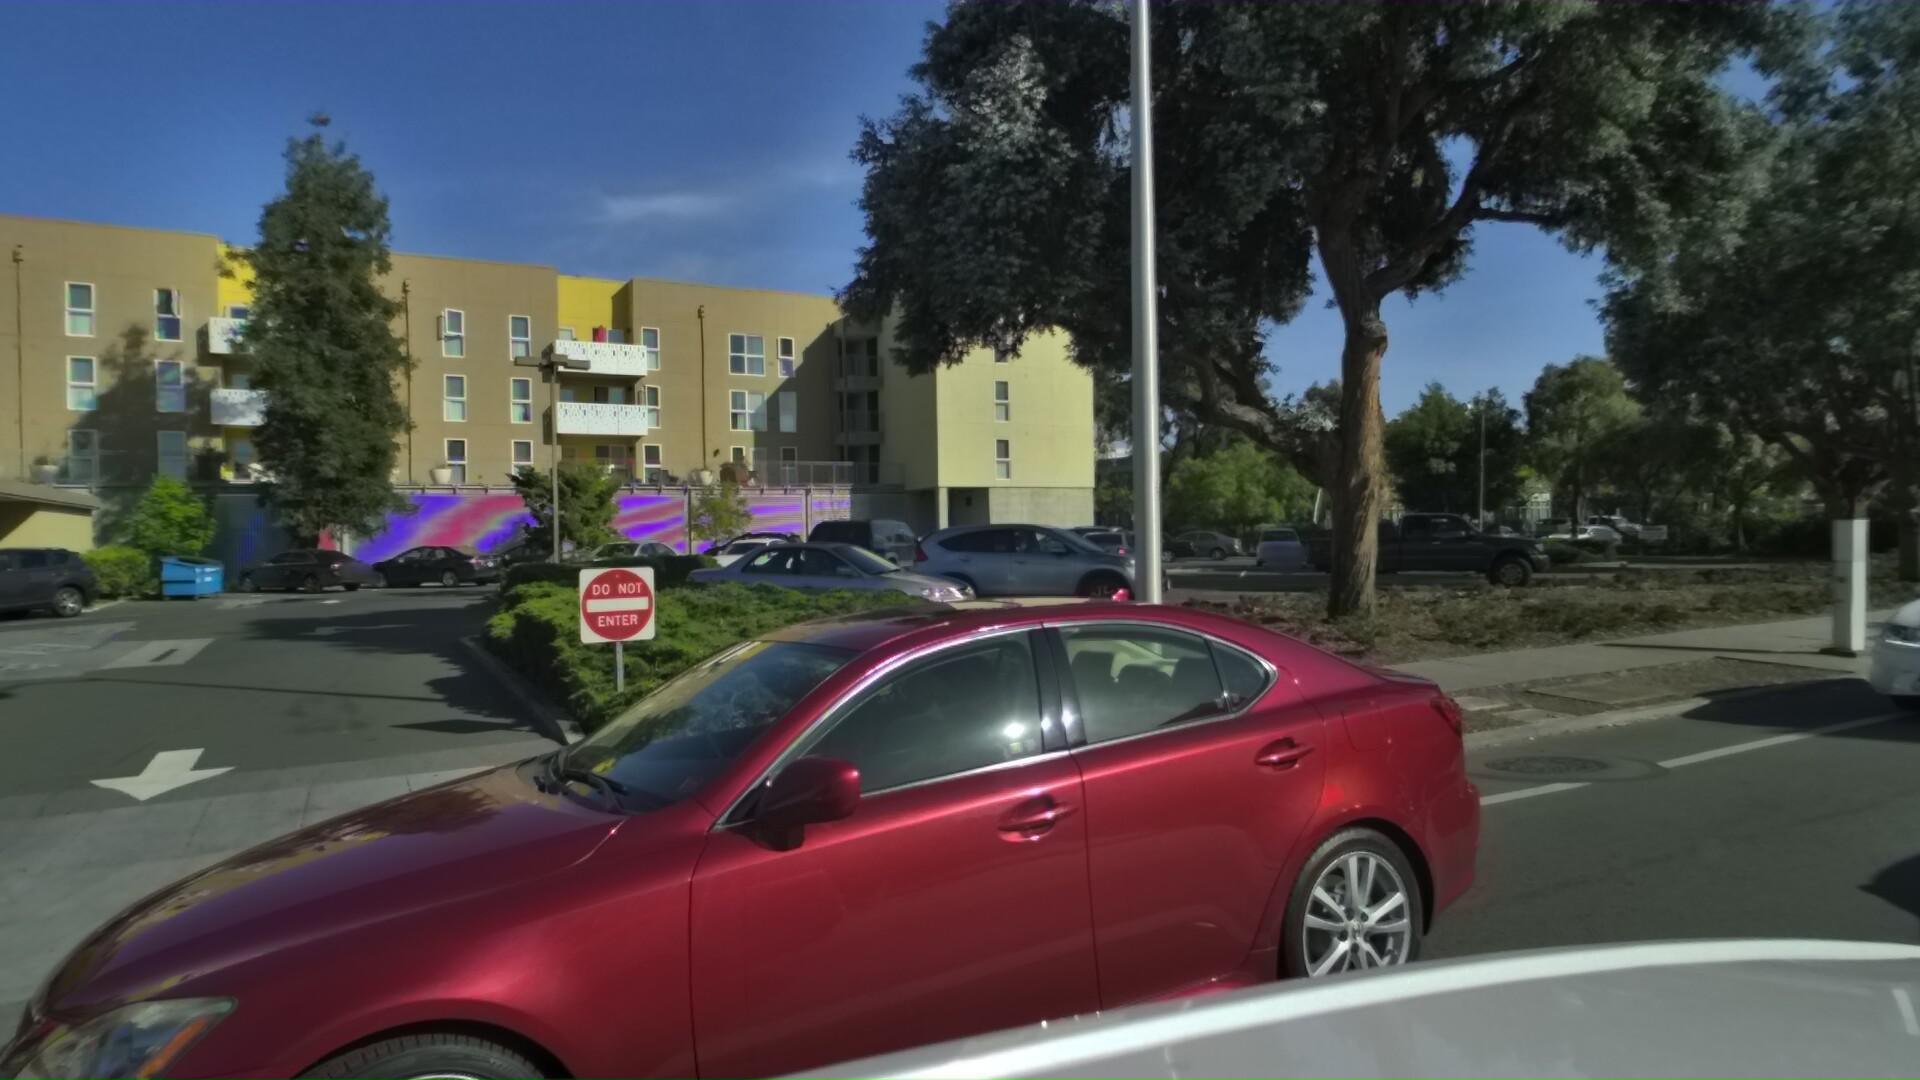car: (0, 553, 1530, 1080), (673, 529, 996, 641), (895, 508, 1180, 615), (1811, 508, 1920, 738), (1284, 500, 1553, 588), (0, 545, 108, 636)
